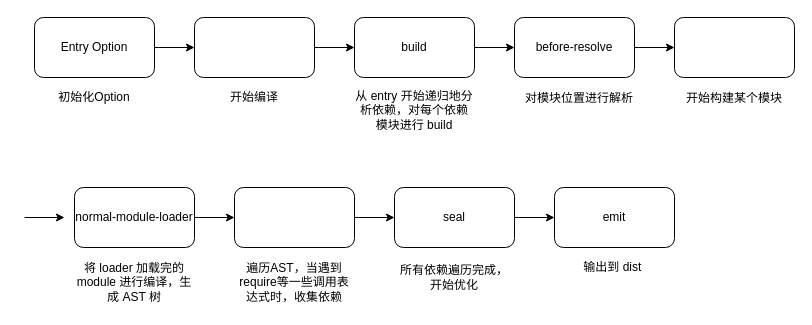
Some shapes in this 812 by 325 pixel diagram are drawn without their labels. Here are the shapes that lost their labels. From the top down, the centre of each, then its label:
[254,47]: run
[734,47]: build module
[294,217]: program
